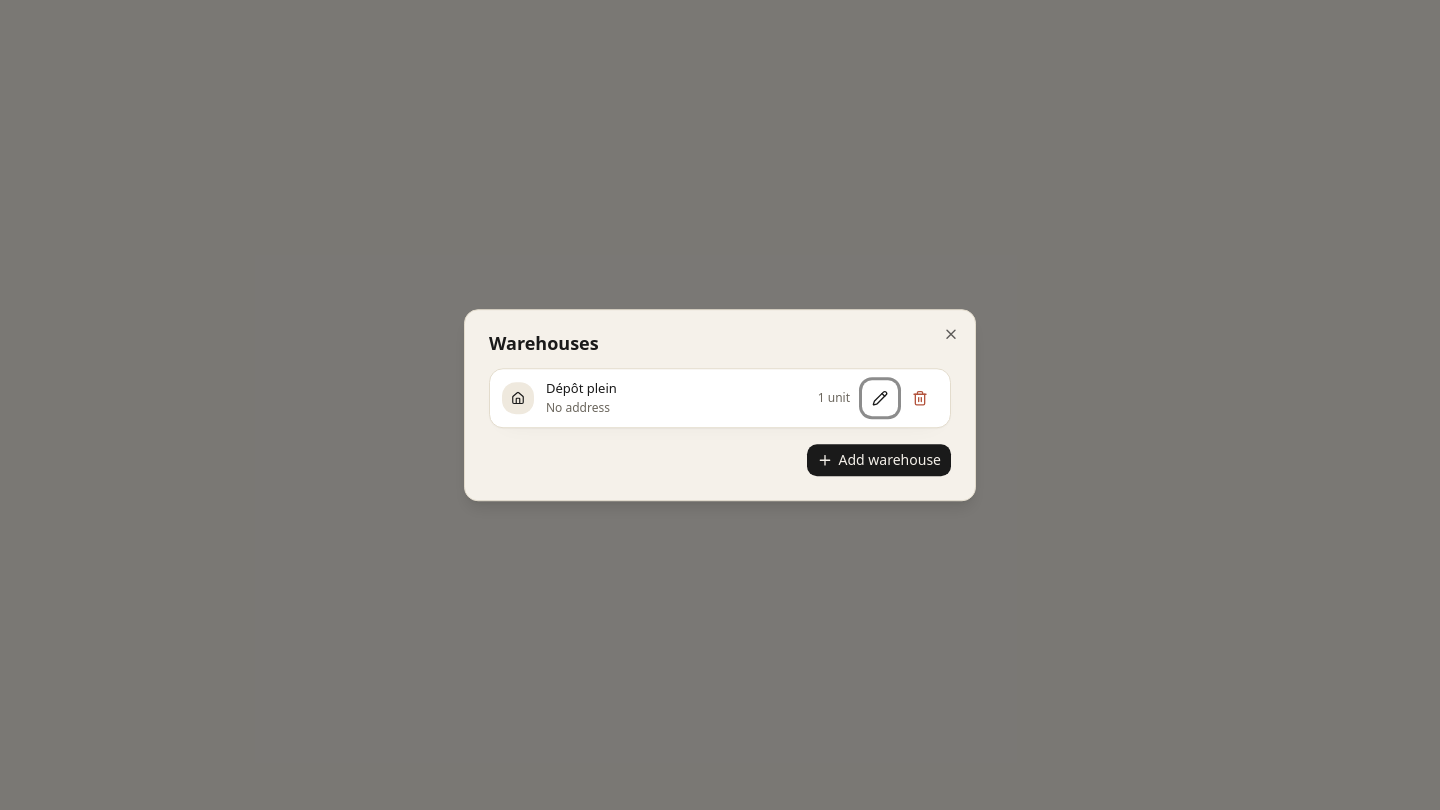
it: WarehousesDialog error messages › uses the plural pronoun for several rows
What coordinates should you click on to do the following:
click the button named "Delete warehouse"
I would click on:
 (920, 398)
Its box is [902, 380, 938, 416].
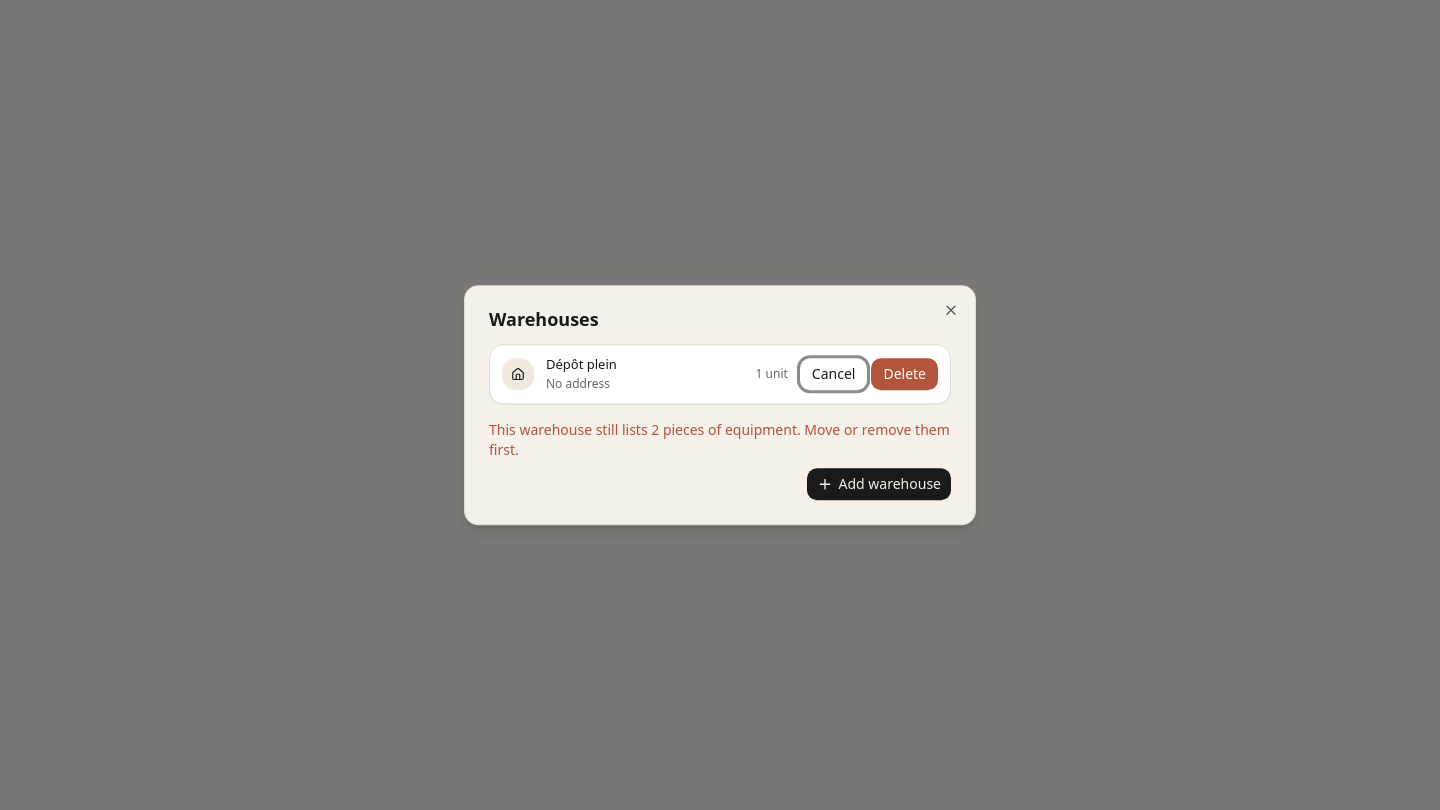
Now the text "This warehouse still lists 2 pieces of equipment. Move or remove them first." is shown, box [489, 420, 951, 460]
